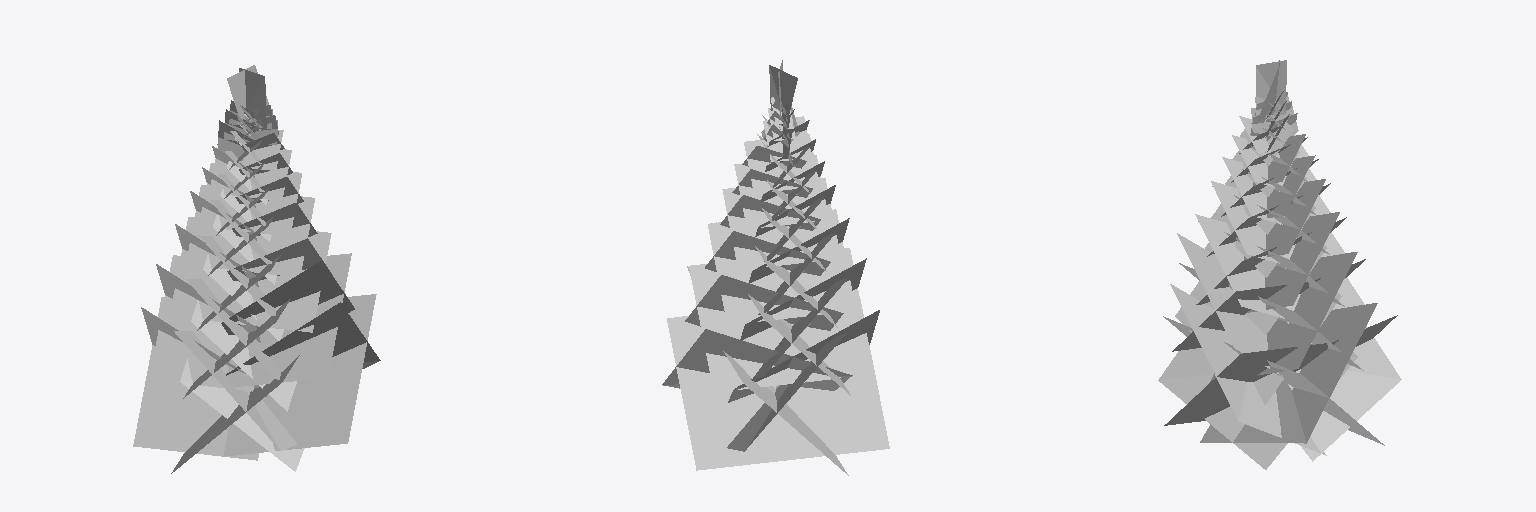
Rendered from pasted__Cone_tree.obj.
3 renders of one model, left to right at view 1: azimuth 30°, elevation 25°; view 2: azimuth 150°, elevation 25°; view 3: azimuth 270°, elevation 25°, orthographic.
Visible parts, largest first — view 1: pasted__Cone_tree group1; view 2: pasted__Cone_tree group1; view 3: pasted__Cone_tree group1.
Part boxes in pixels (x1,y1,x2,y2): pasted__Cone_tree group1: (133,65,380,473); pasted__Cone_tree group1: (662,60,889,475); pasted__Cone_tree group1: (1158,60,1401,469).
Size of the model in its own units: 1.65 by 2.91 by 1.68.